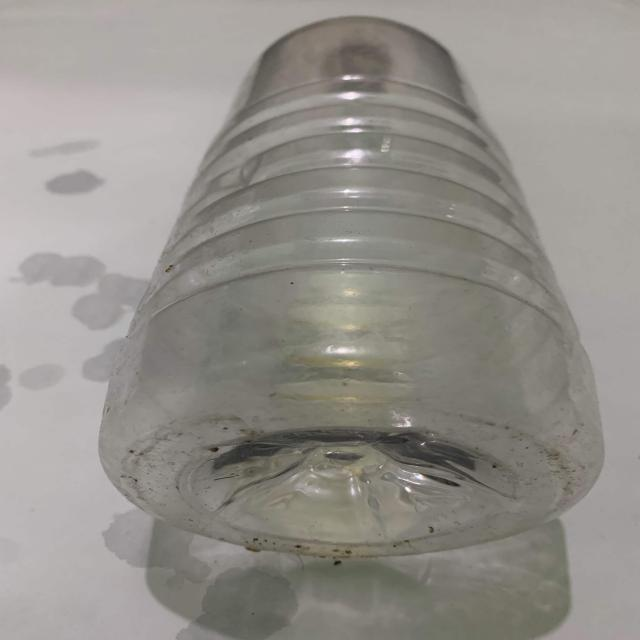bottle: (82, 0, 594, 602)
